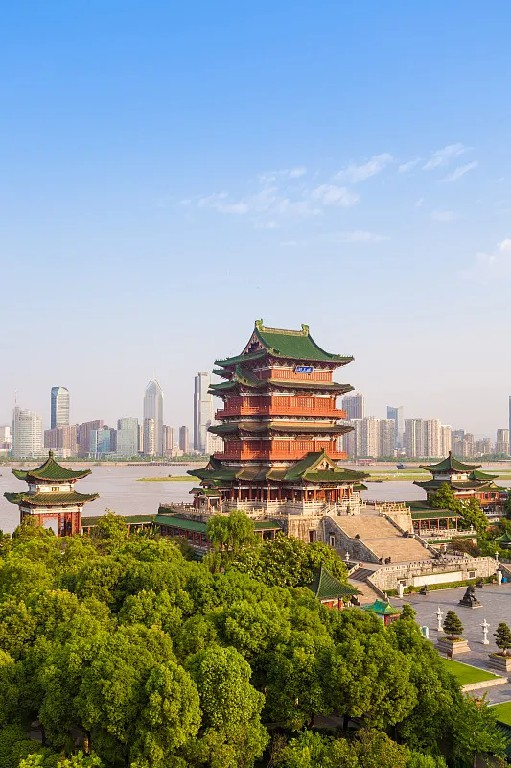Teng: (187, 321, 371, 502)
